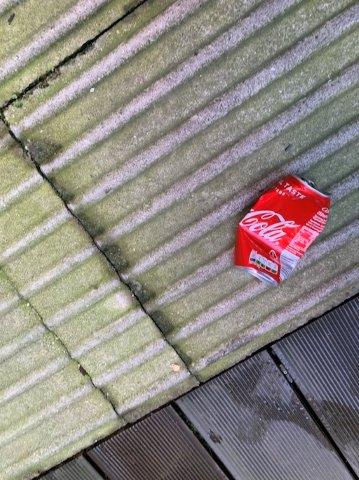kaleng: (237, 177, 330, 282)
